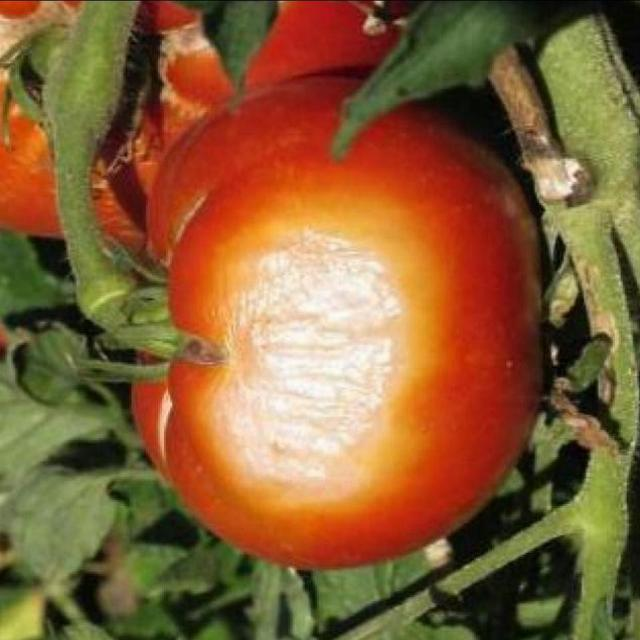Sunscald Fruit: (115, 139, 289, 352)
